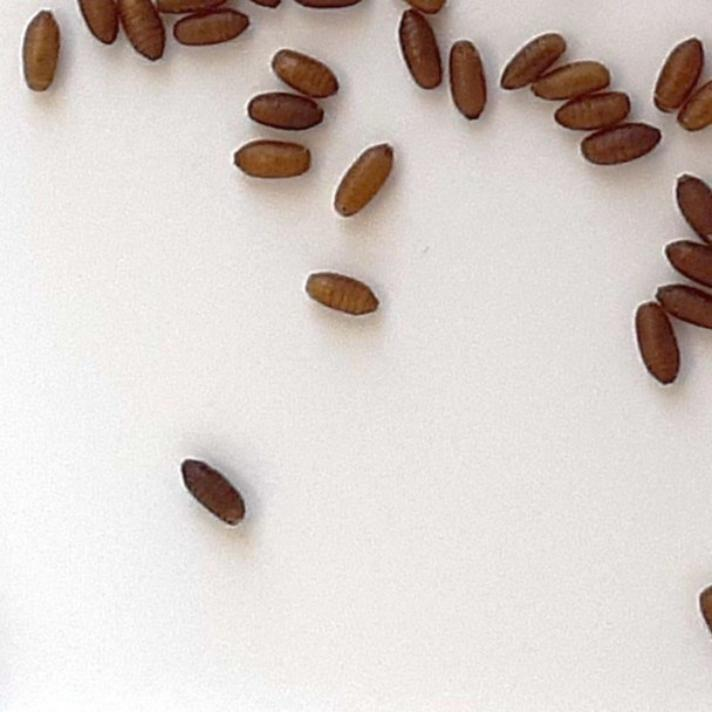pupae: (172, 449, 254, 536), (328, 140, 404, 224), (631, 300, 683, 396), (648, 36, 706, 118), (572, 120, 666, 170), (496, 27, 570, 89), (395, 1, 445, 92), (268, 48, 352, 102), (14, 5, 62, 99), (527, 57, 615, 108), (444, 36, 492, 128), (305, 272, 387, 324), (547, 88, 635, 132), (230, 140, 318, 182), (172, 8, 260, 46), (118, 1, 170, 64), (246, 92, 330, 130), (672, 170, 712, 244), (660, 235, 712, 290), (654, 282, 712, 330), (672, 76, 712, 134), (78, 2, 118, 52)
